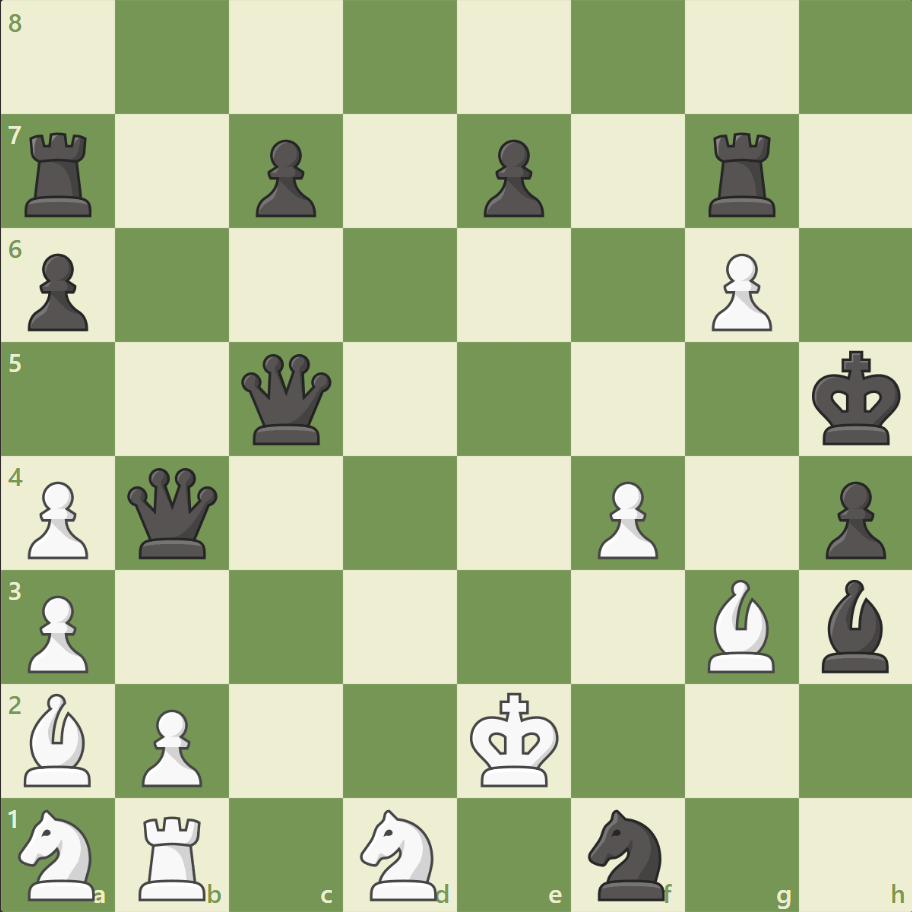B: (17, 687, 101, 790), (698, 574, 782, 676)
K: (465, 685, 565, 793)
N: (351, 802, 449, 904), (11, 802, 108, 904)
P: (701, 246, 776, 337), (20, 473, 95, 564), (20, 586, 95, 677), (133, 700, 208, 791), (588, 473, 662, 564)
R: (133, 806, 215, 904)
b: (812, 574, 896, 676)
k: (806, 344, 906, 452)
n: (579, 802, 676, 904)
p: (247, 132, 322, 223), (474, 132, 549, 223), (20, 246, 95, 337), (815, 473, 889, 564)
q: (237, 349, 336, 449), (124, 463, 223, 562)
r: (19, 125, 102, 222), (700, 125, 783, 222)
